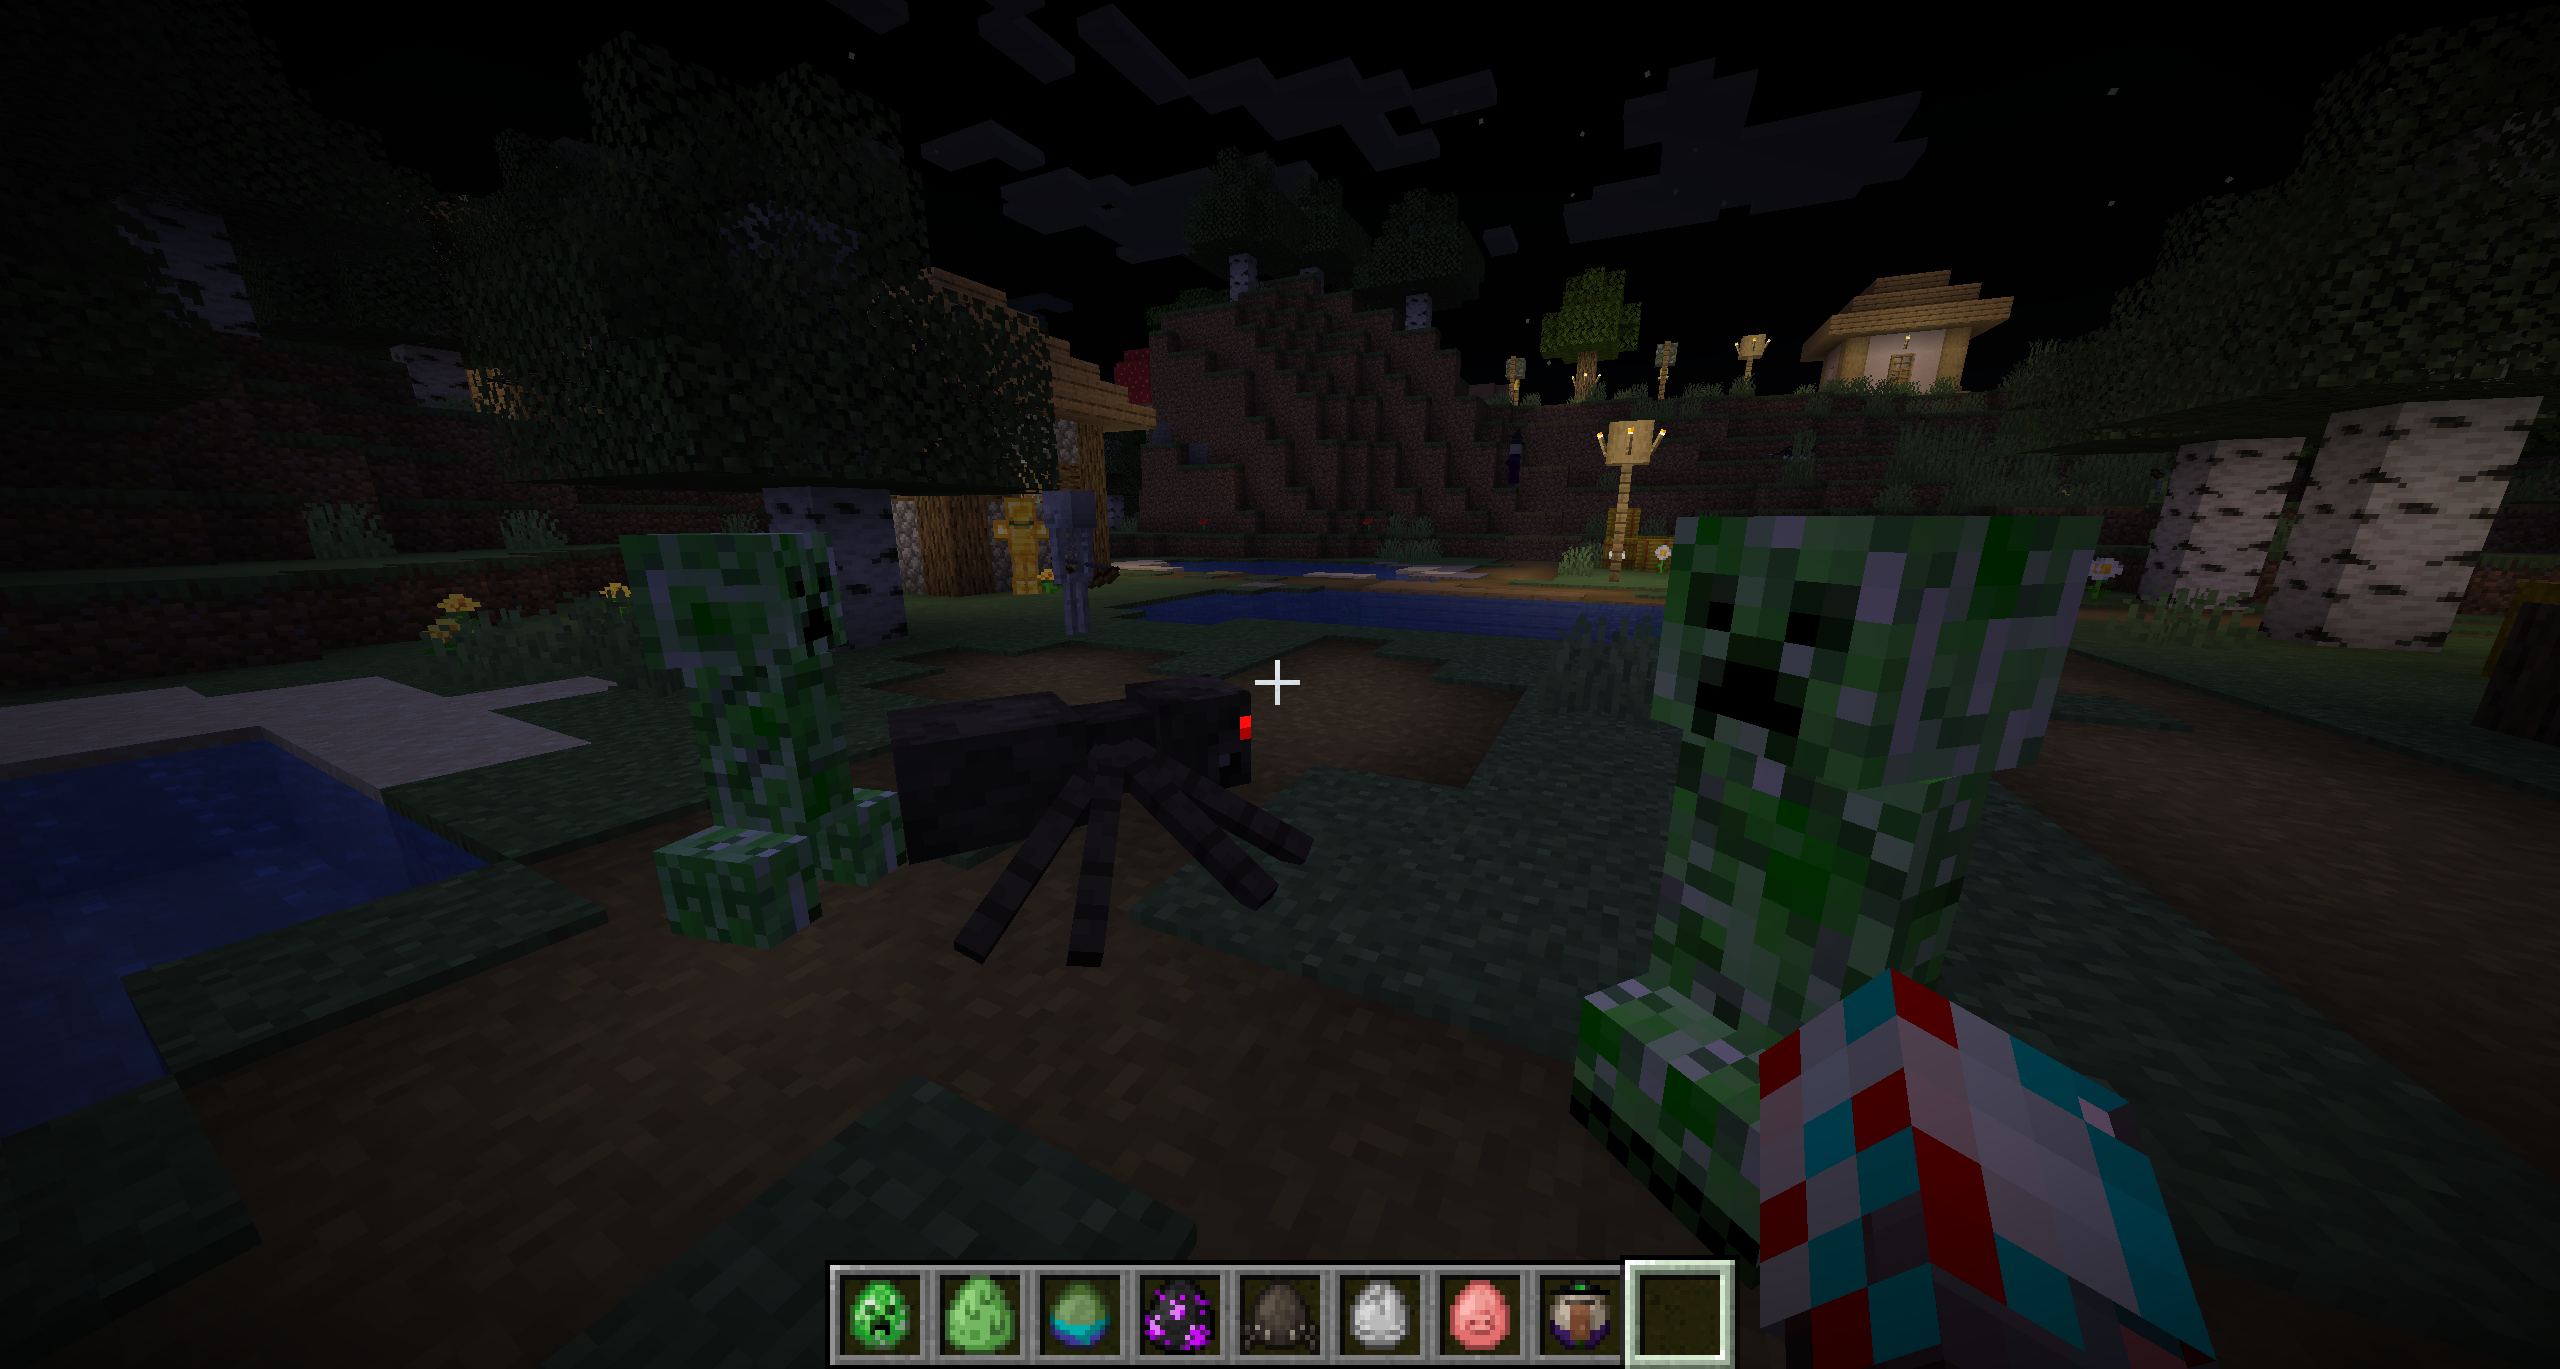araignees: (889, 682, 1295, 899)
creepers: (1668, 518, 2091, 1227), (616, 530, 908, 932)
sorcieres: (1505, 428, 1527, 486)
squelettes: (1040, 487, 1111, 641)
zombies: (990, 496, 1051, 597)
